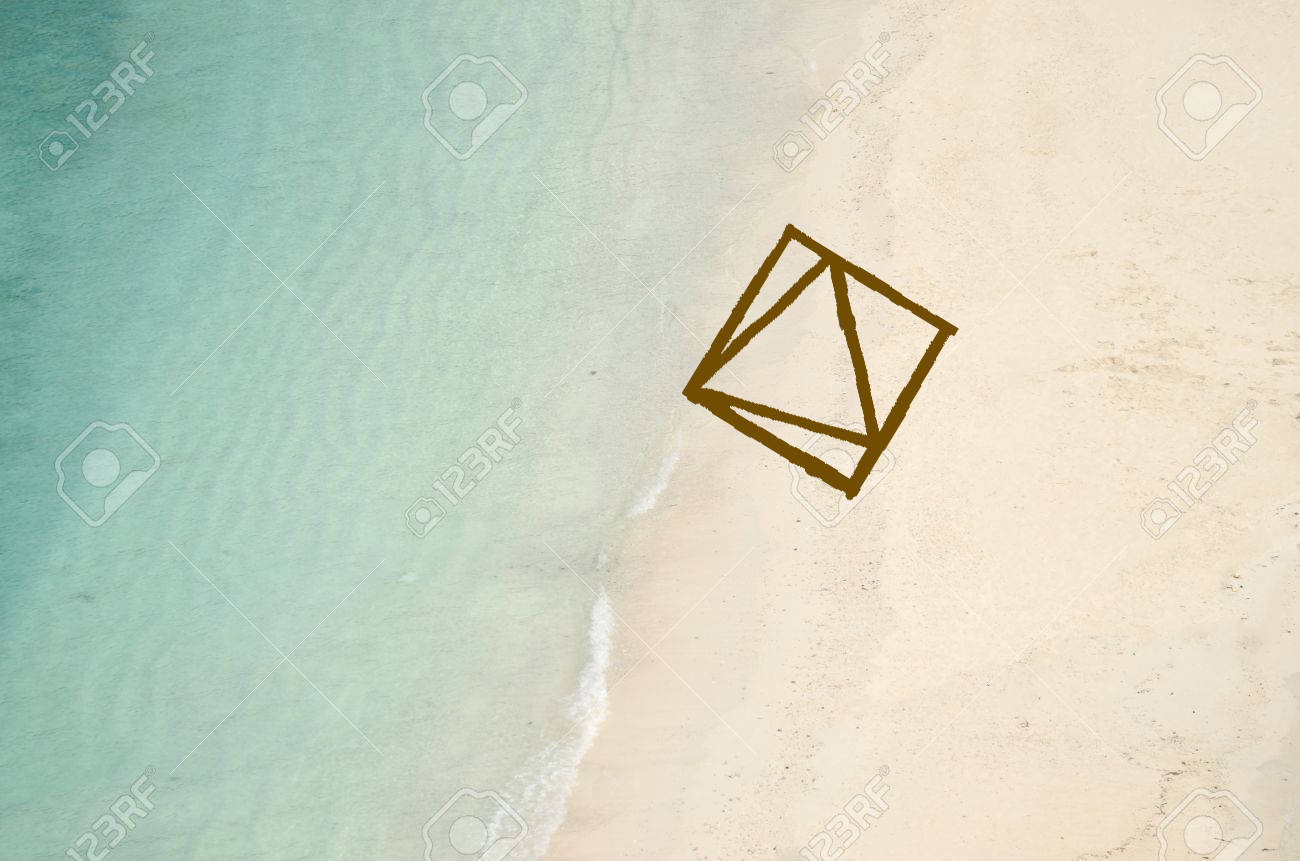marker: (673, 217, 964, 508)
